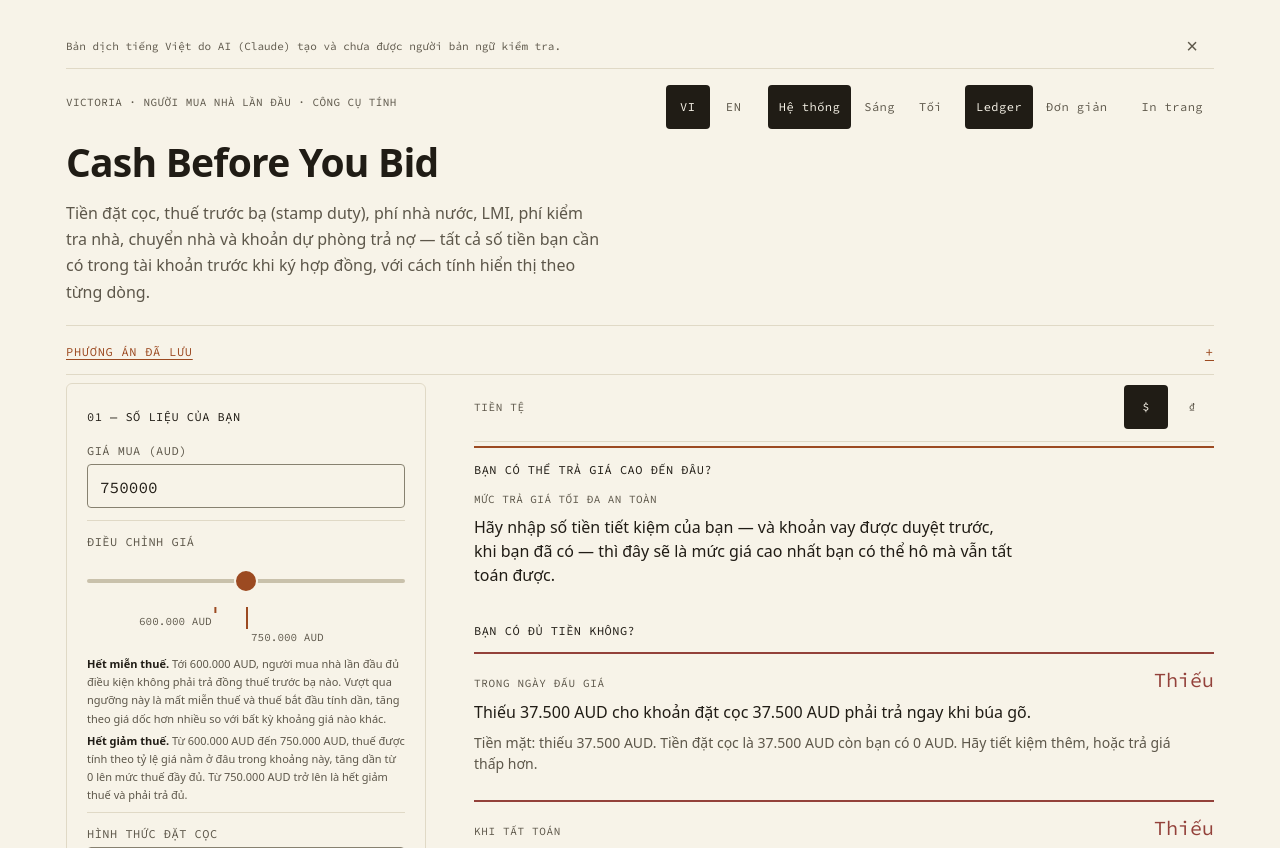
Test: localisation › switching language updates ?lang= in the URL and <html lang>
Check: the field labelled "Giá mua (AUD)" is shown, box x1=87 y1=464 x2=405 y2=508
Check: the text "Hình thức đặt cọc" is shown, box x1=87 y1=826 x2=218 y2=841
Click the button with aria-label "English": (734, 107) x1=712 y1=85 x2=756 y2=129
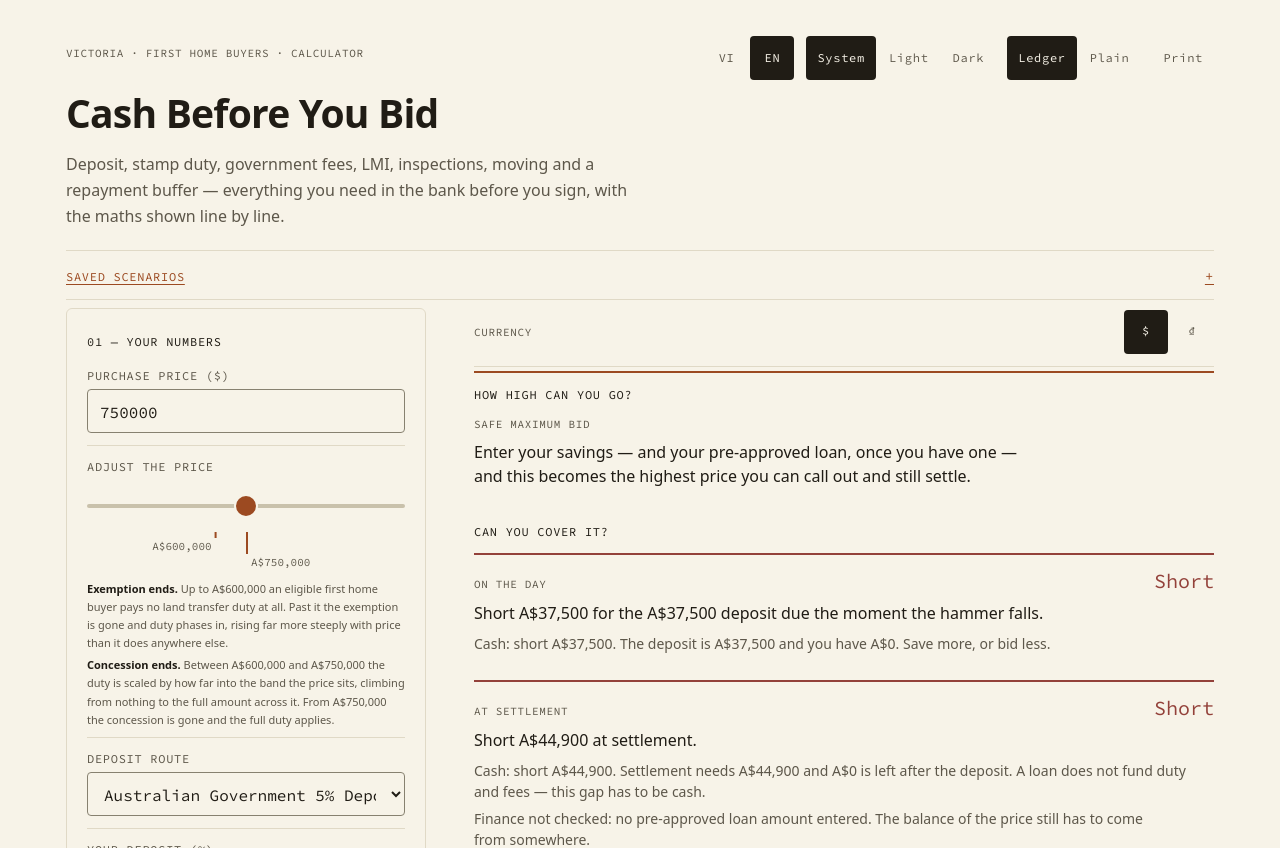
Check: the text "Deposit route" is shown, box x1=87 y1=751 x2=190 y2=766
Click the button with aria-label "Tiếng Việt": (726, 58) x1=704 y1=36 x2=748 y2=80
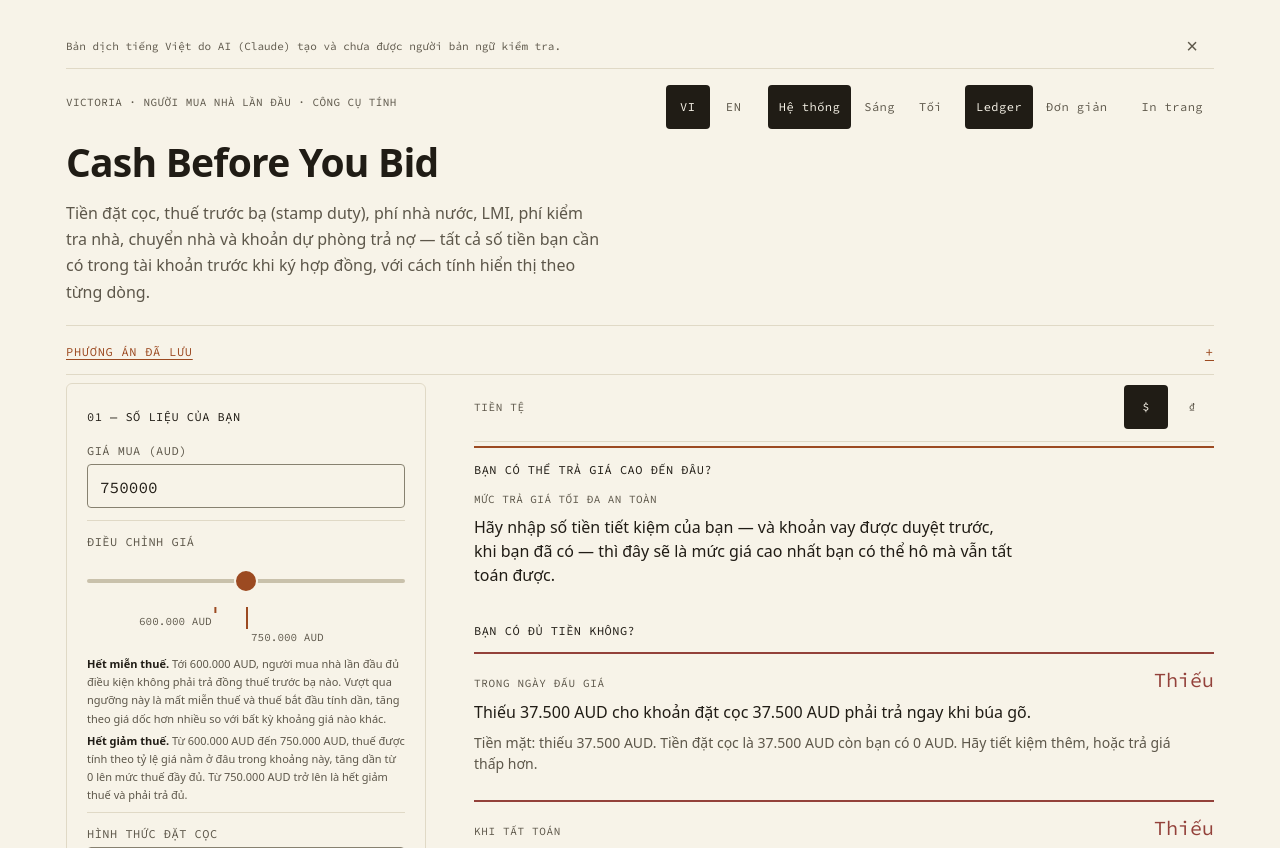
Check: the text "Hình thức đặt cọc" is shown, box x1=87 y1=826 x2=218 y2=841
